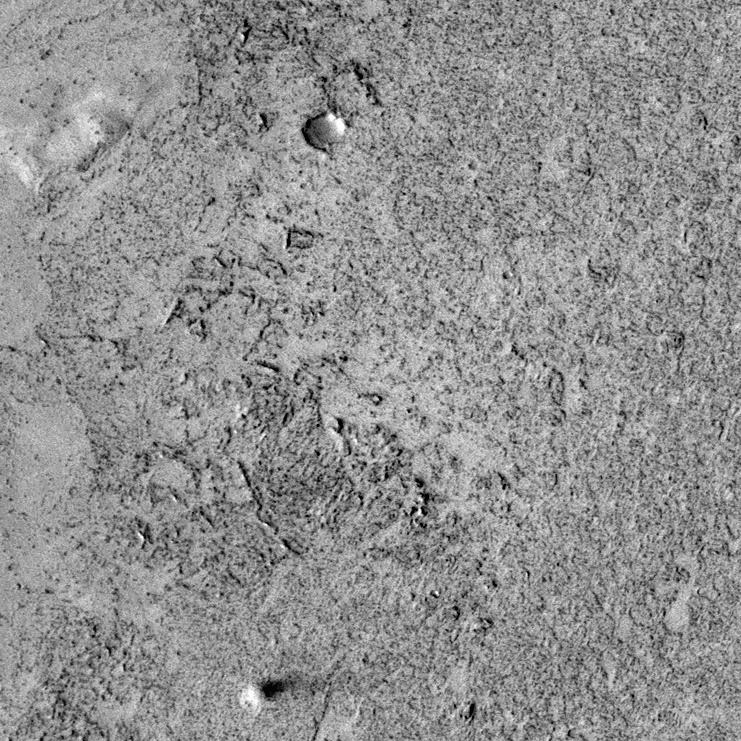dust_devil: (236, 668, 299, 716)
